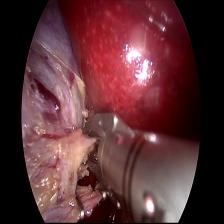Clipper: (78, 100, 135, 196)
